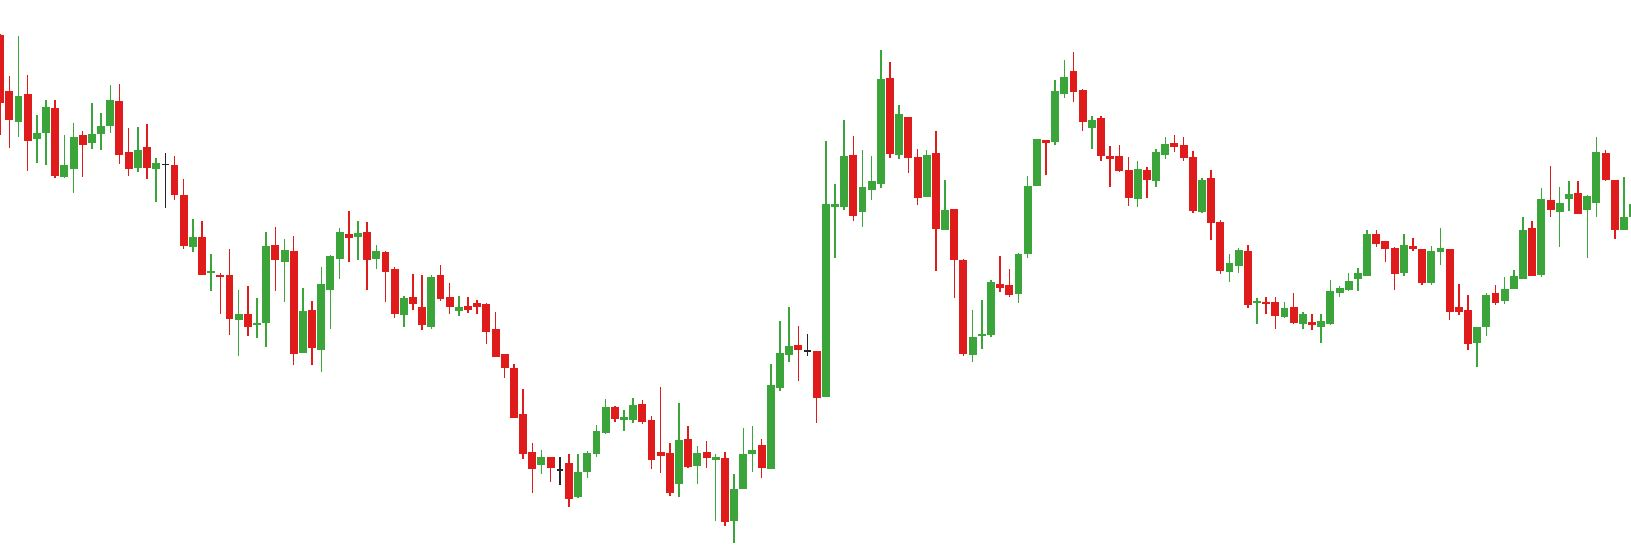buy: (1317, 261, 1481, 381), (665, 425, 741, 552)
sell: (260, 206, 372, 320), (838, 46, 896, 189), (41, 79, 125, 166), (1545, 135, 1610, 219)
